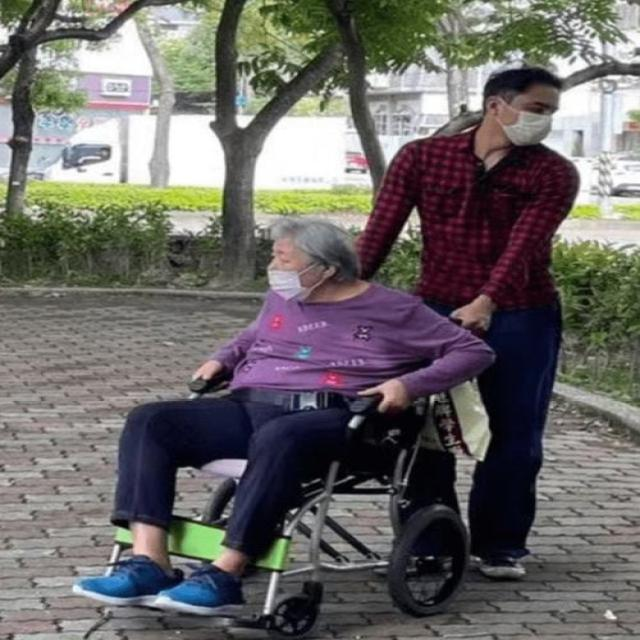wheelchairs: (86, 301, 489, 638)
